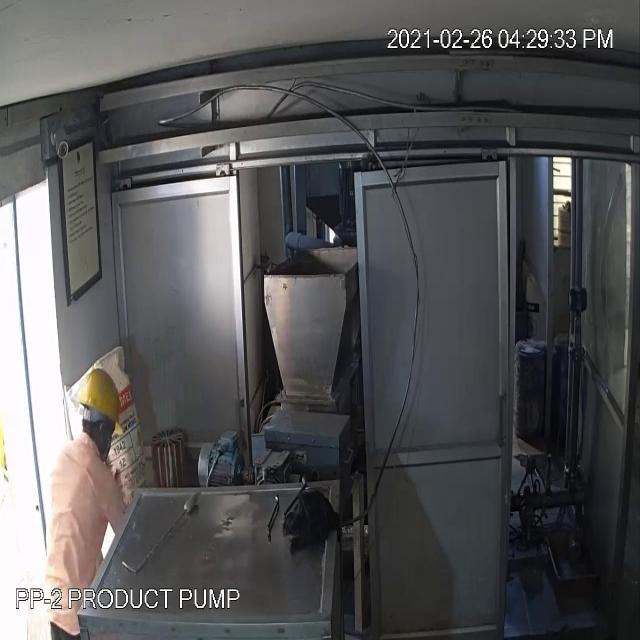helmet: (73, 364, 131, 446)
